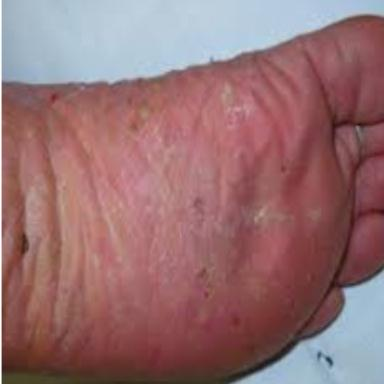eczema: (3, 57, 296, 341)
